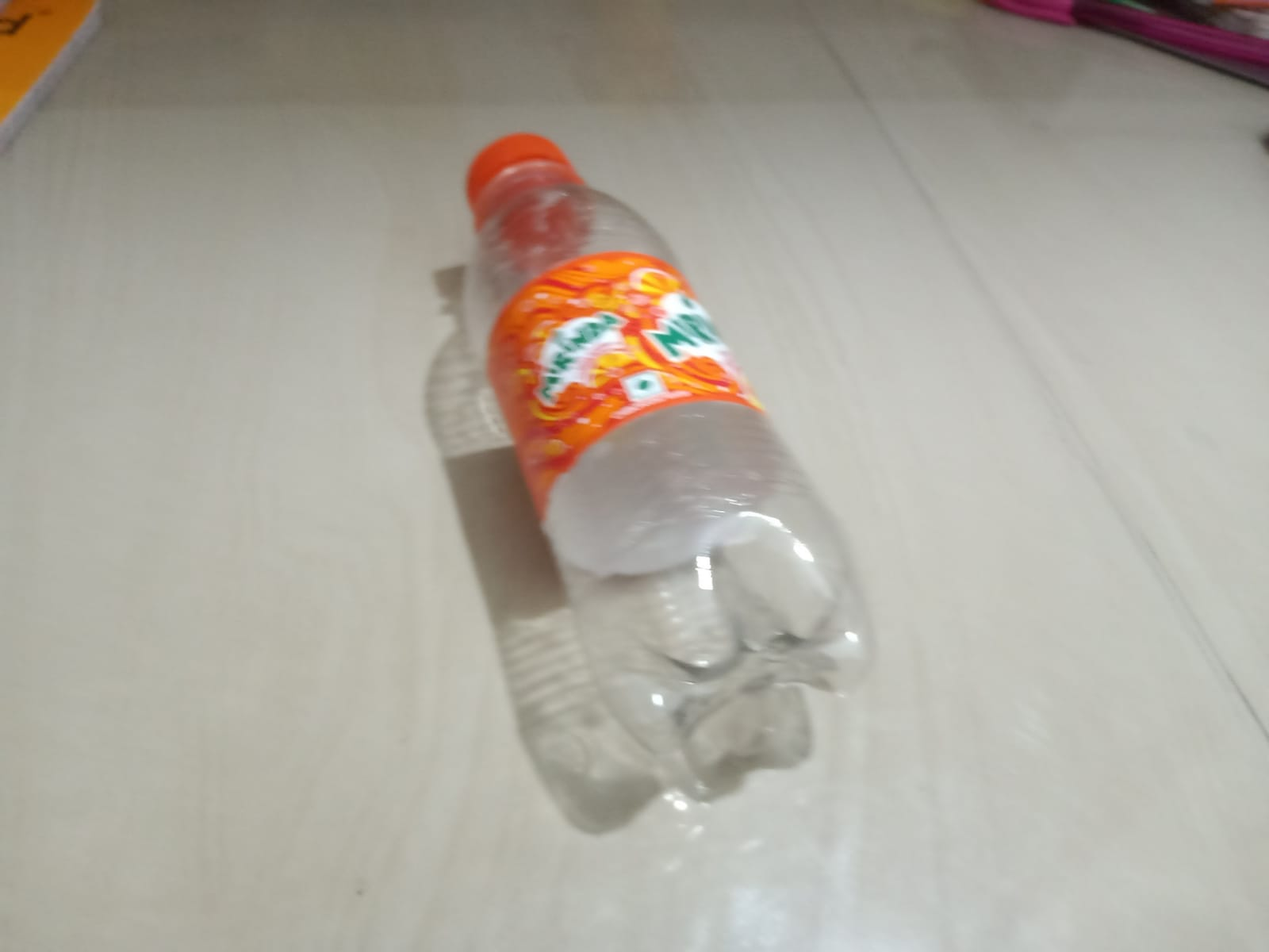plastic: (397, 72, 896, 833)
